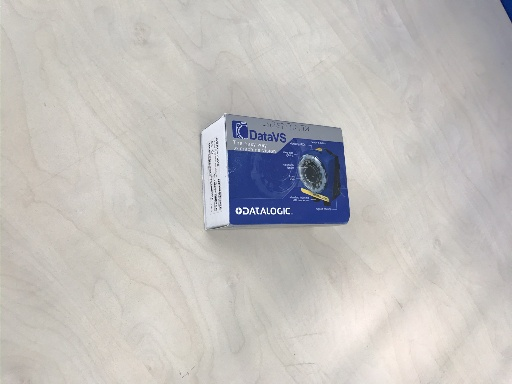Box: (201, 113, 351, 231)
